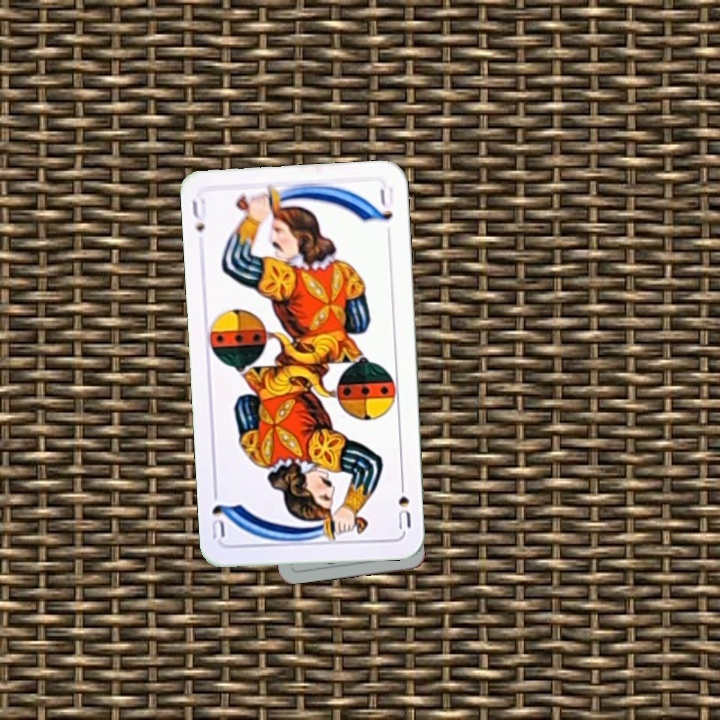SU: (394, 474, 414, 533), (187, 195, 209, 235)
